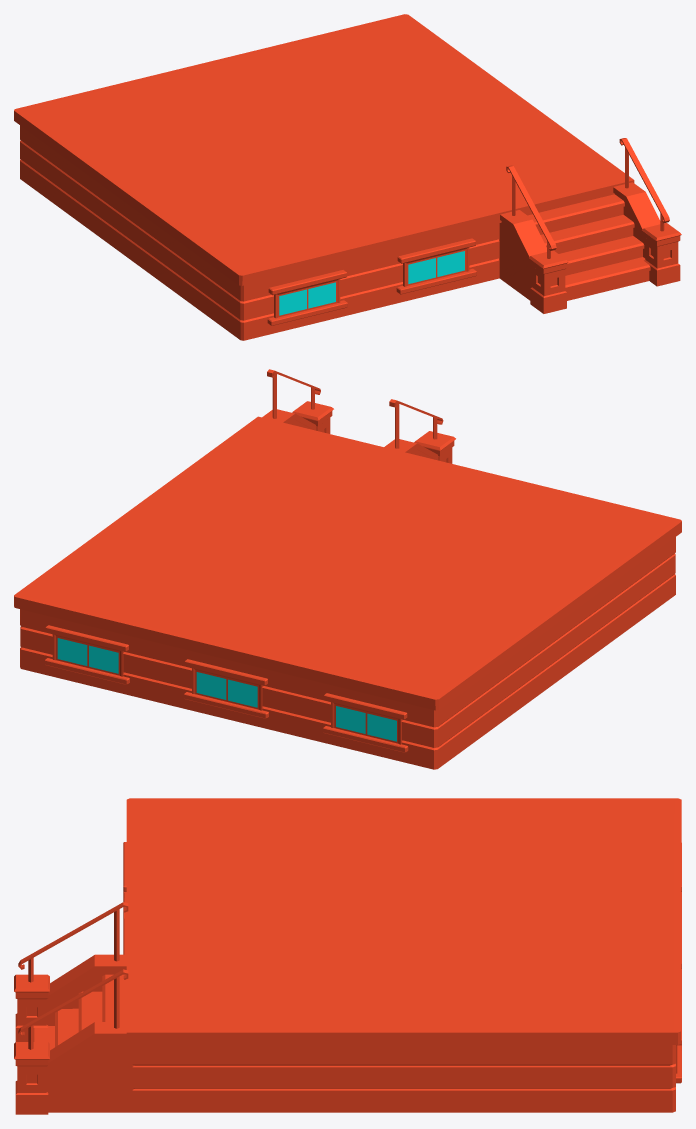
The model's file is SM_Squarehouse_Bottom_Small_B_FB_City.fbx.
3 views of the same model, one above another, from view 1: azimuth 30°, elevation 25°; view 2: azimuth 150°, elevation 25°; view 3: azimuth 270°, elevation 25° (orthographic). The views are drawn at different scales.
Visible parts, largest first — view 1: SM_Squarehouse_Bottom_Small_B_FB_City; view 2: SM_Squarehouse_Bottom_Small_B_FB_City; view 3: SM_Squarehouse_Bottom_Small_B_FB_City.
Part boxes in pixels (x1,y1,x2,y2): SM_Squarehouse_Bottom_Small_B_FB_City: (14,14,681,340); SM_Squarehouse_Bottom_Small_B_FB_City: (14,369,681,769); SM_Squarehouse_Bottom_Small_B_FB_City: (14,798,681,1114).
Size of the model in its own units: 6.13 by 1.67 by 7.36.
